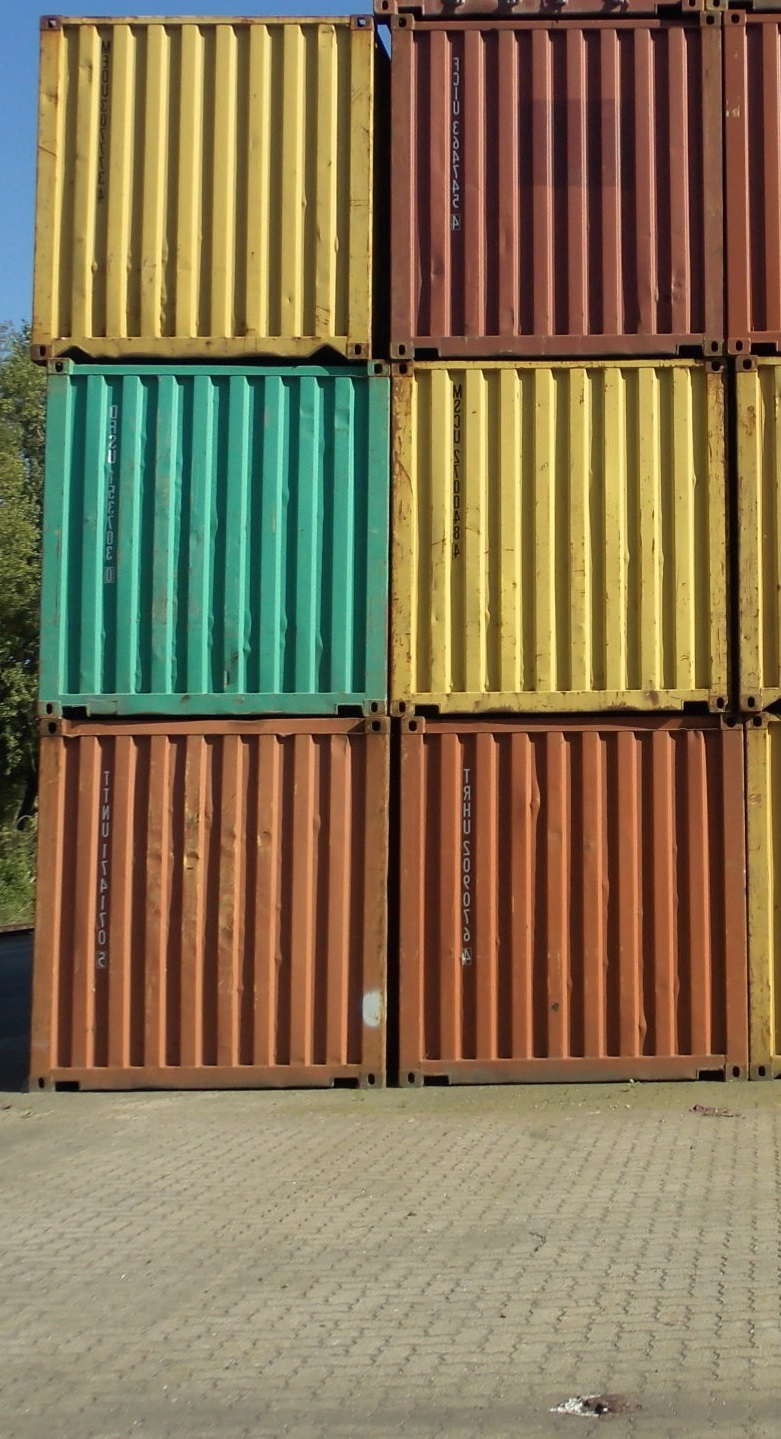container_no_door: (27, 714, 390, 1094), (395, 718, 740, 1079), (390, 353, 734, 714), (47, 353, 384, 712), (382, 18, 729, 359), (33, 18, 379, 359)
